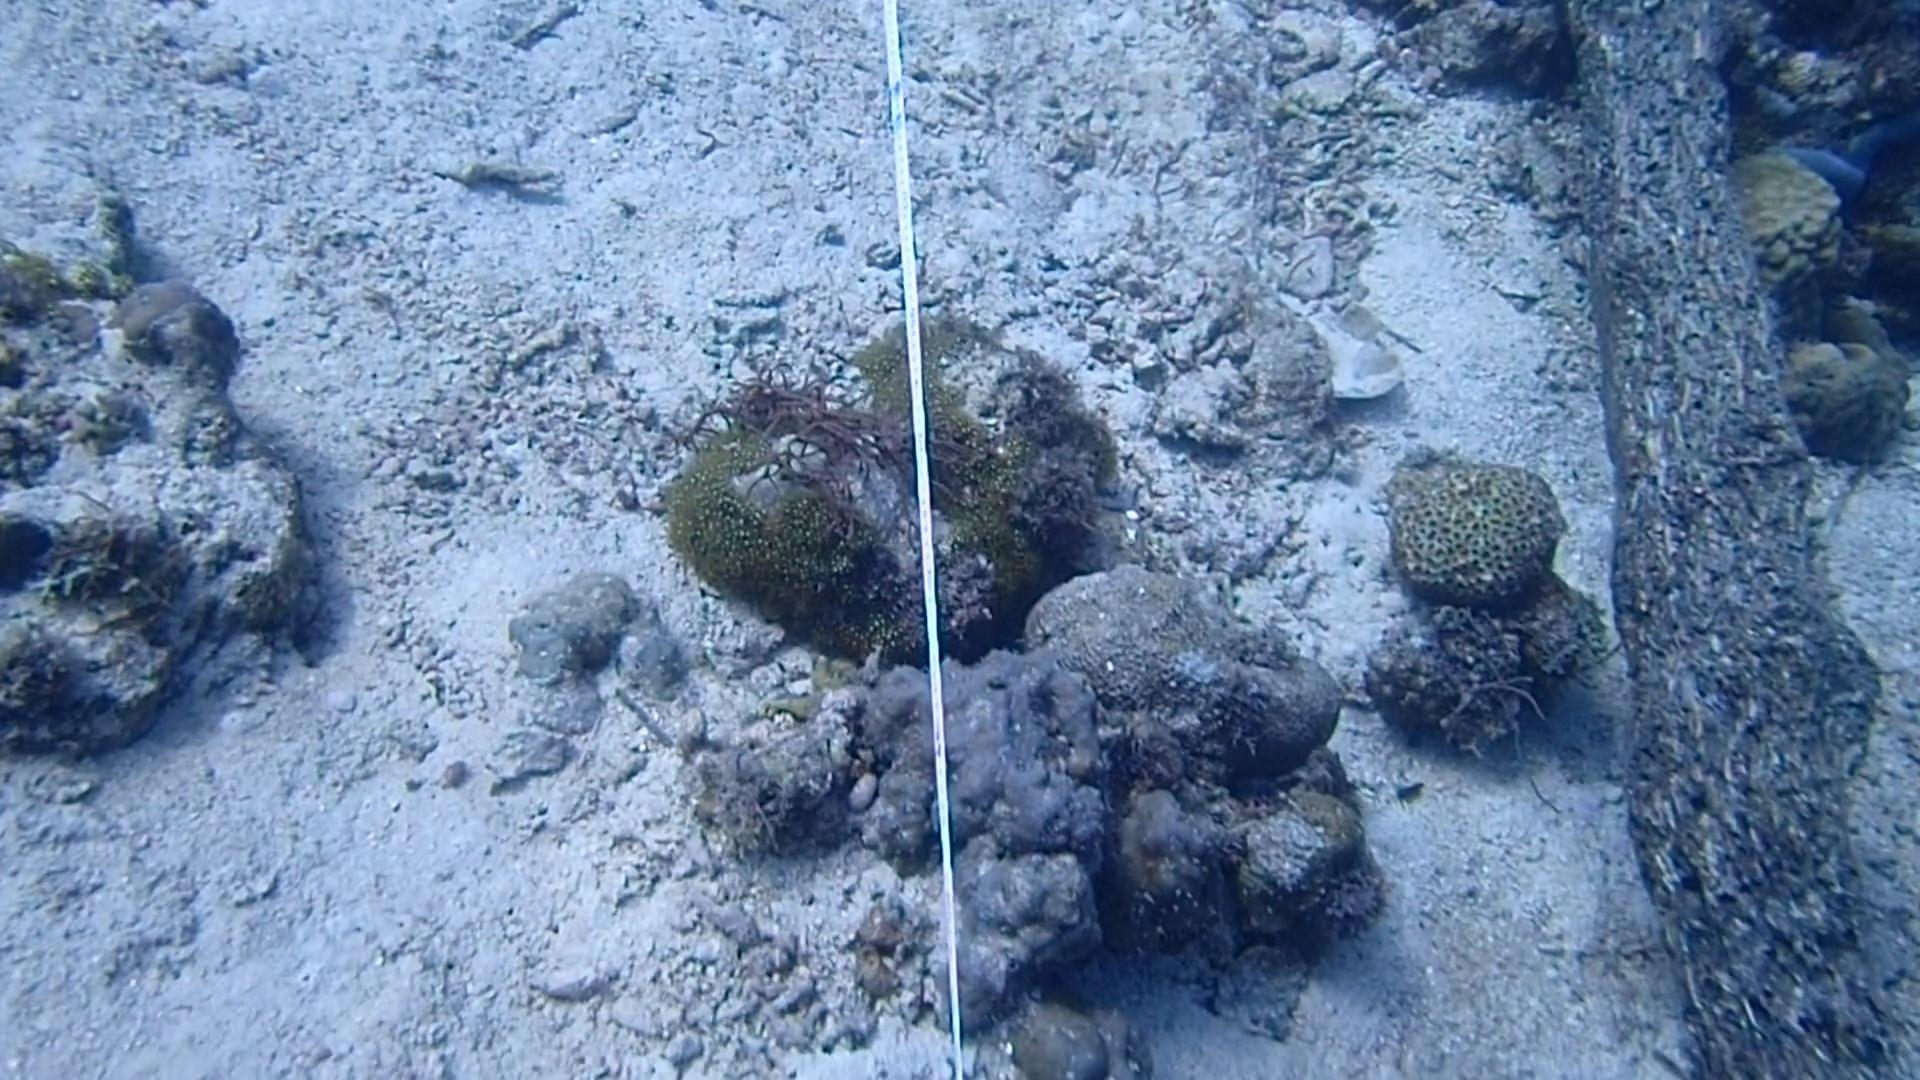UI: (1387, 767, 1429, 818)
